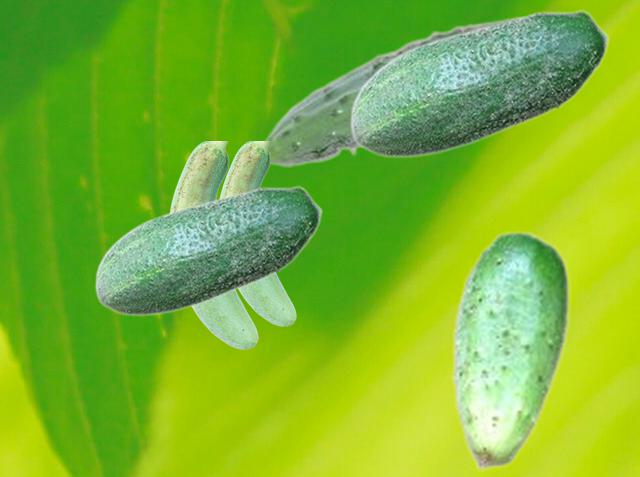cucumber: (349, 9, 609, 157), (262, 16, 517, 166), (94, 185, 322, 315), (451, 229, 569, 470), (170, 141, 257, 348), (219, 141, 295, 325)
